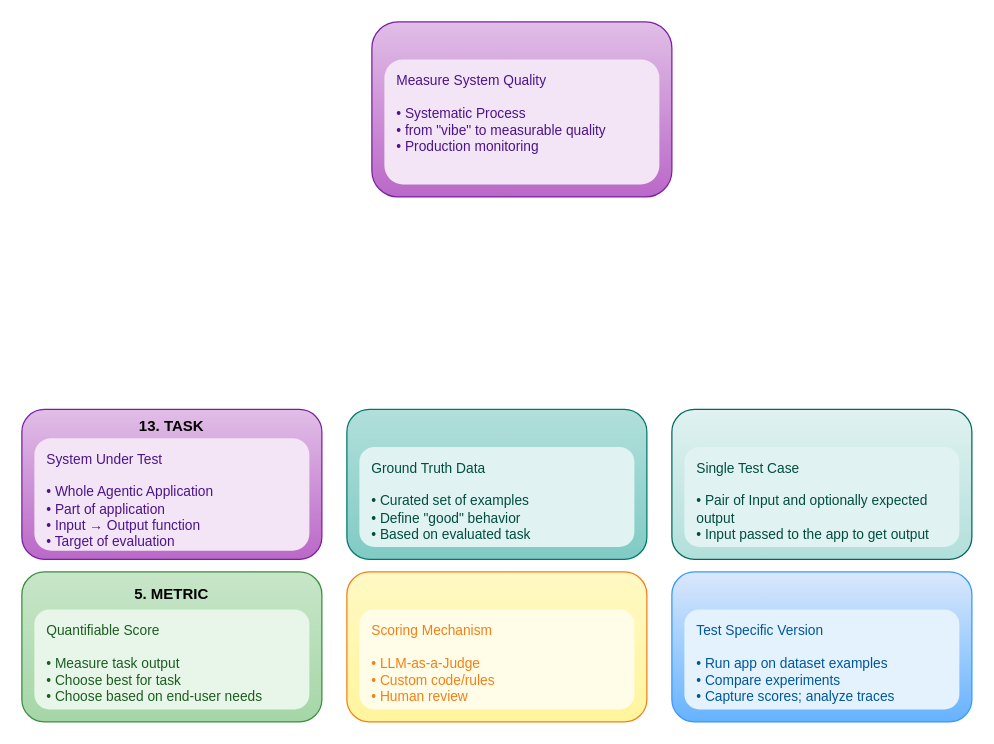
Image size: 994x744. Some labels were removed from this diagram. The shapes that lost their labels are listed below. From the top down, each one's box as (x1, y1, x2, y2) in pixels, then its label:
(371, 21, 672, 197): 1. EVALUATION
(346, 408, 647, 559): 3. GOLDEN DATASET
(671, 408, 972, 559): 12. EXAMPLE
(346, 571, 647, 722): 4. EVALUATOR
(671, 571, 972, 722): 2. EXPERIMENT
